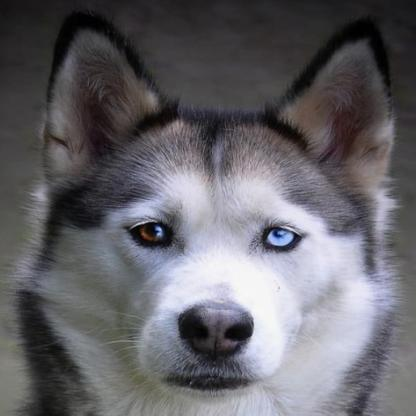dog: (21, 14, 405, 415)
